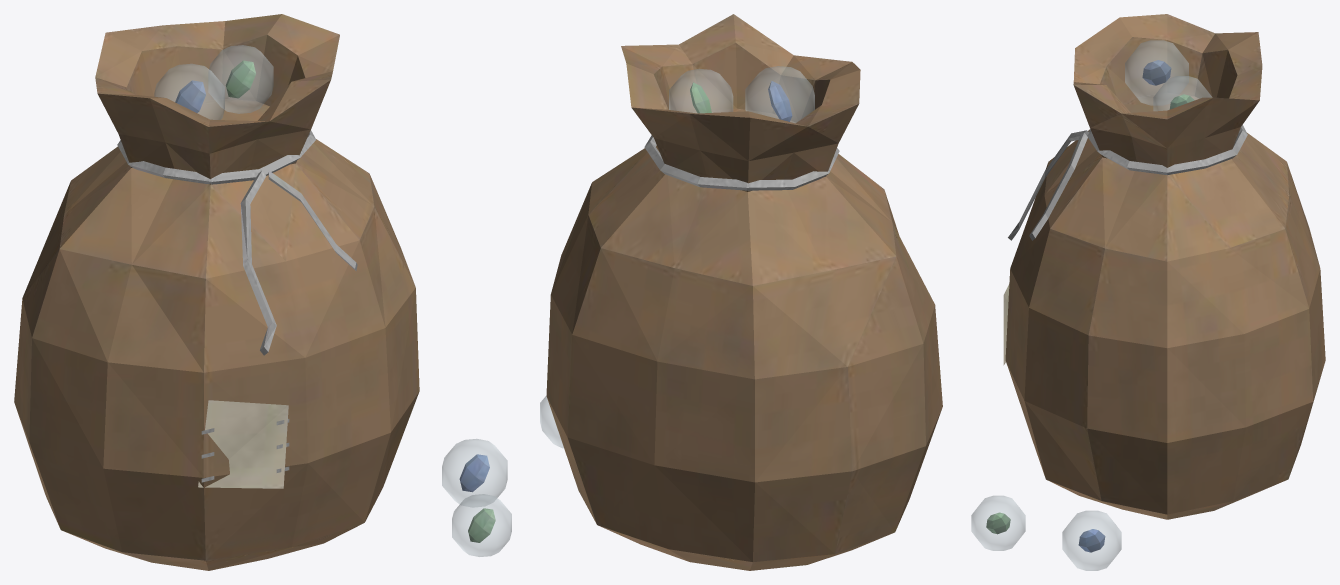
File: SP11_marble_bag.glb
3 views of the same model, side by side, from view 1: azimuth 30°, elevation 25°; view 2: azimuth 150°, elevation 25°; view 3: azimuth 270°, elevation 25° (orthographic). The views are drawn at different scales.
Parts seen in each view (by area): view 1: Worn gathered marble sack; view 2: Worn gathered marble sack; view 3: Worn gathered marble sack.
Boxes of the visible parts, x1,y1,x2,y2 form: Worn gathered marble sack: (14, 14, 511, 570); Worn gathered marble sack: (540, 14, 942, 570); Worn gathered marble sack: (971, 14, 1325, 570).
Size of the model in its own units: 0.1907 by 0.2 by 0.1533.
7 materials, 6 textured.
